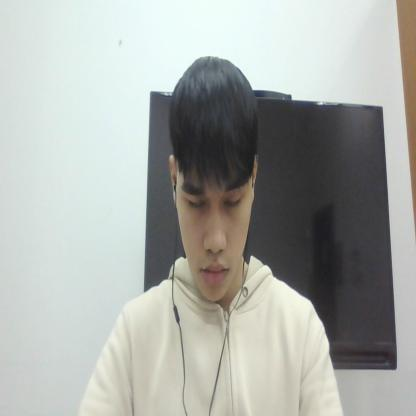Closed-Eyes: (176, 164, 253, 225)
